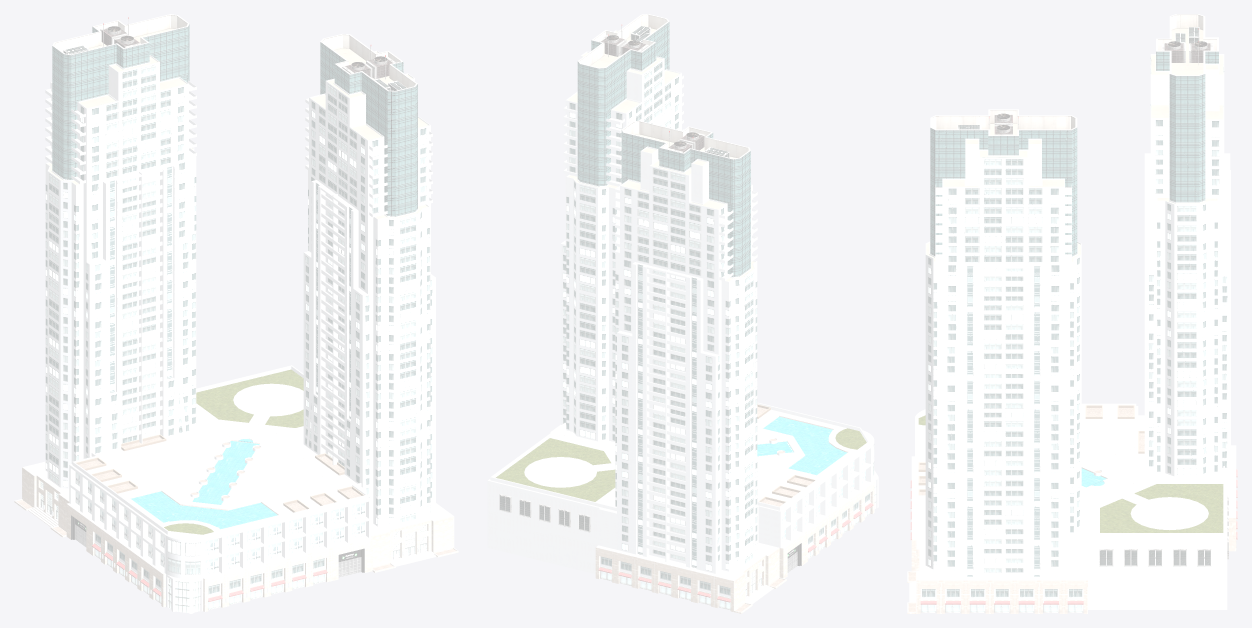
File: hivizcayne.FBX
3 views of the same model, side by side, from view 1: azimuth 30°, elevation 25°; view 2: azimuth 150°, elevation 25°; view 3: azimuth 270°, elevation 25° (orthographic). The views are drawn at different scales.
Parts seen in each view (by area): view 1: hivizcayne; view 2: hivizcayne; view 3: hivizcayne.
Boxes of the visible parts, x1,y1,x2,y2 form: hivizcayne: [14, 14, 458, 613]; hivizcayne: [487, 14, 878, 613]; hivizcayne: [907, 14, 1237, 613].
Size of the model in its own units: 9497 by 15253 by 9497.
1 material, 1 textured.
